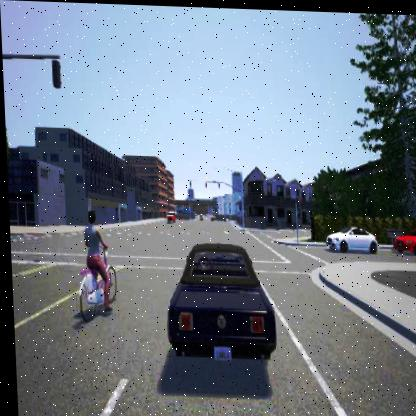bike: (74, 207, 120, 319)
vehicle: (161, 239, 274, 359), (322, 222, 376, 250), (390, 224, 416, 252)
